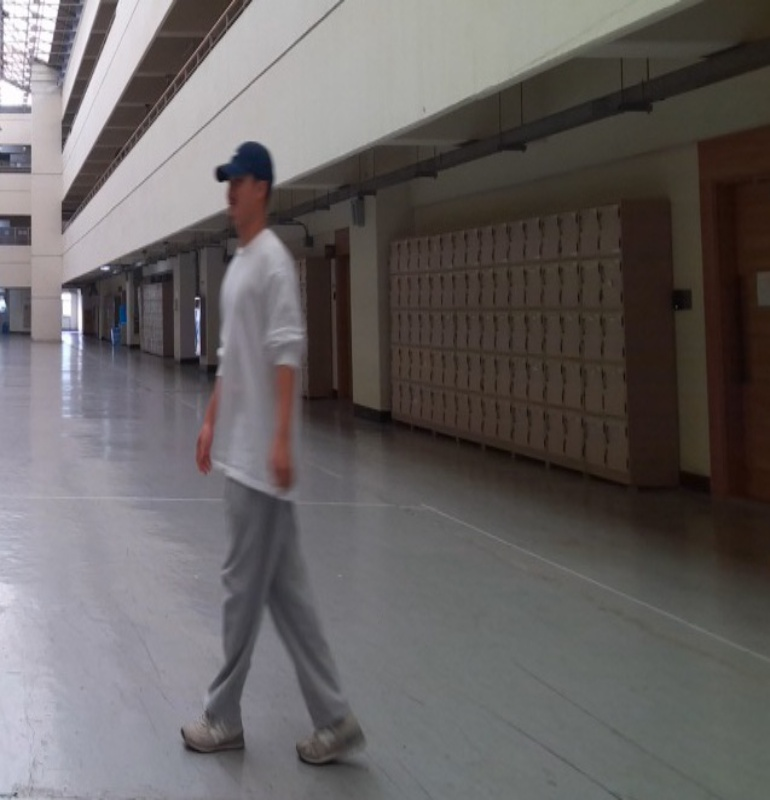person: (180, 140, 370, 768)
